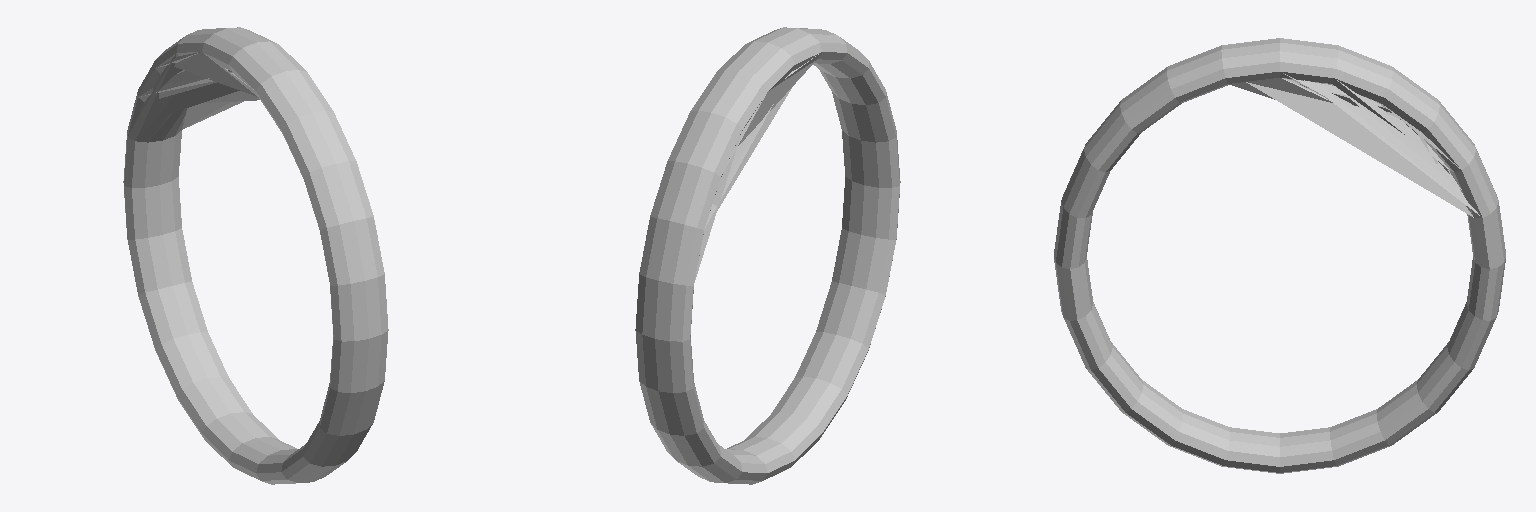
File: Notebook.obj
The picture shows the model from 3 angles: view 1: azimuth 30°, elevation 25°; view 2: azimuth 150°, elevation 25°; view 3: azimuth 270°, elevation 25°; orthographic projection.
Parts seen in each view (by area): view 1: Torus001, Box003; view 2: Torus001, Box003; view 3: Torus001, Box003.
Part boxes in pixels (x1,y1,x2,y2): Torus001: (123,27,388,484); Box003: (128,52,259,142); Torus001: (635,27,900,484); Box003: (694,52,821,282); Torus001: (1054,38,1505,473); Box003: (1229,73,1479,217).
Size of the model in its own units: 10953 by 82389 by 79232.